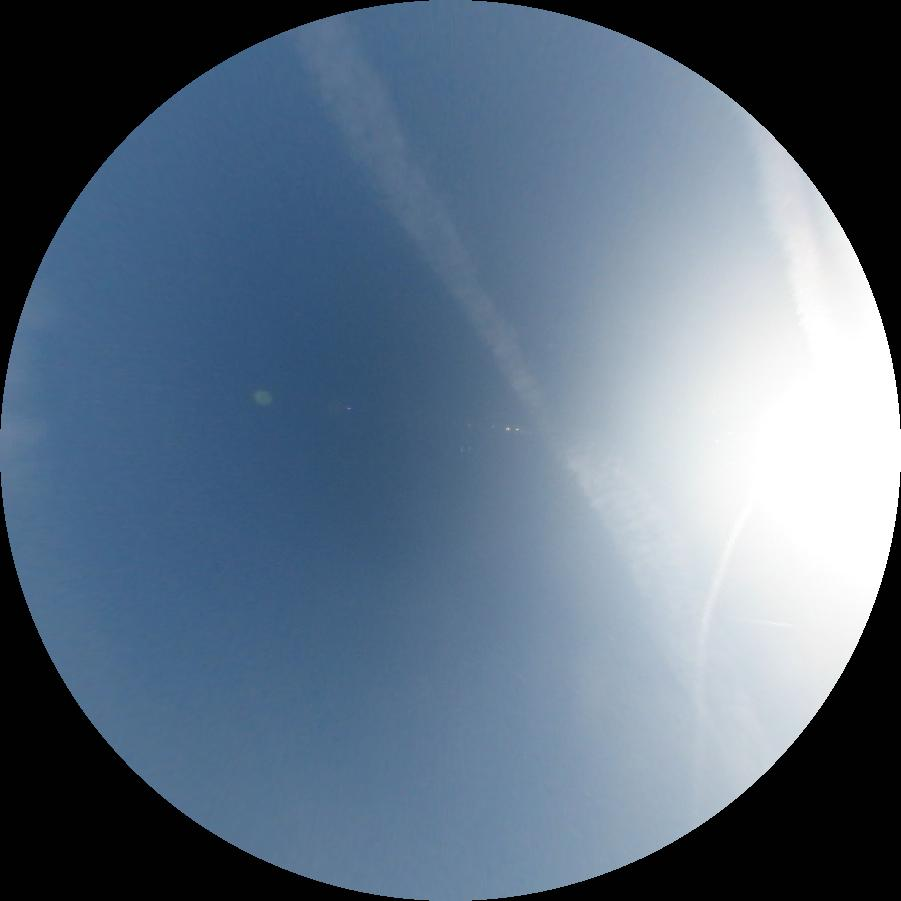contrail old: (689, 500, 759, 833)
contrail veryold: (295, 15, 793, 788), (751, 116, 846, 365)
contrail young: (736, 618, 798, 629)
sun: (727, 294, 897, 645)
